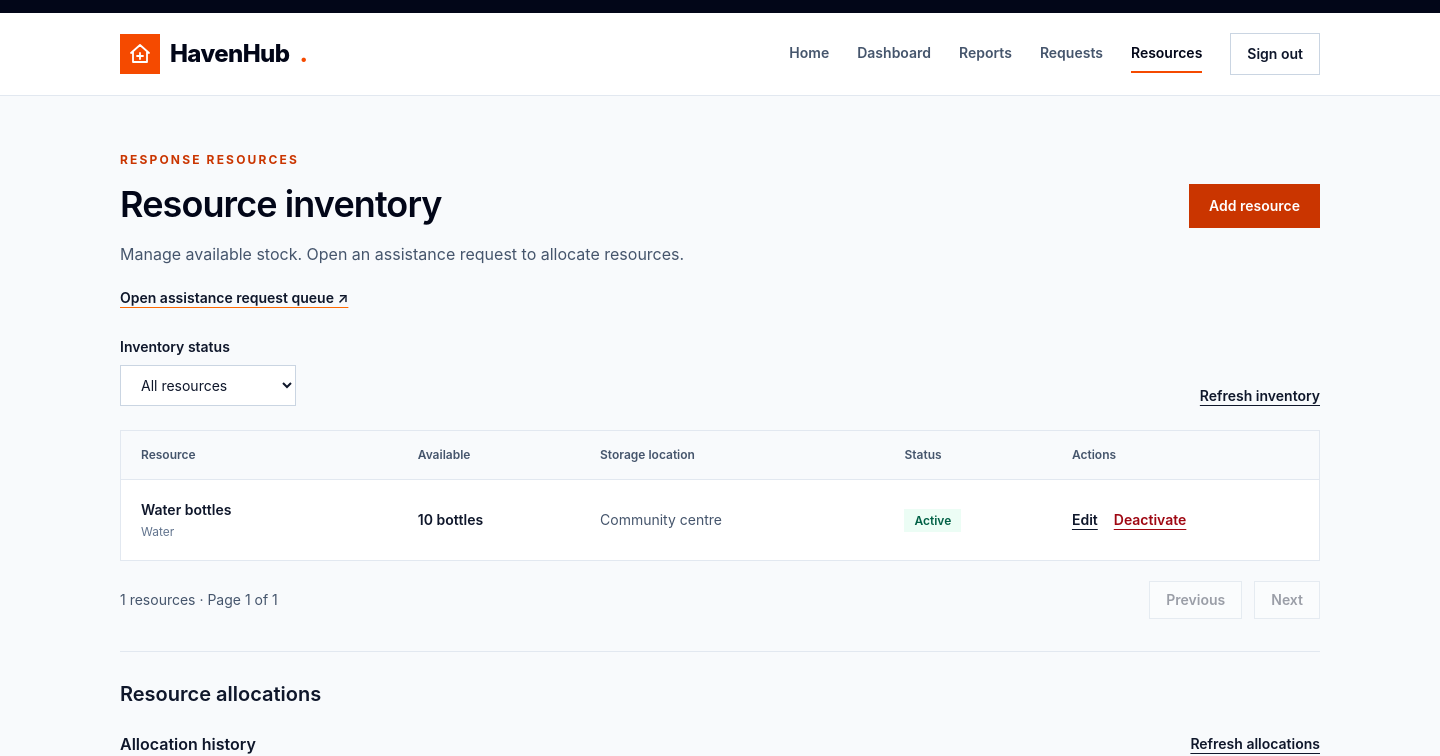
Scenario: edit submits the stock version and preserves form data after a validation failure
Click the button with aria-label "Edit Water bottles".
click(1085, 520)  # box [1072, 510, 1098, 530]
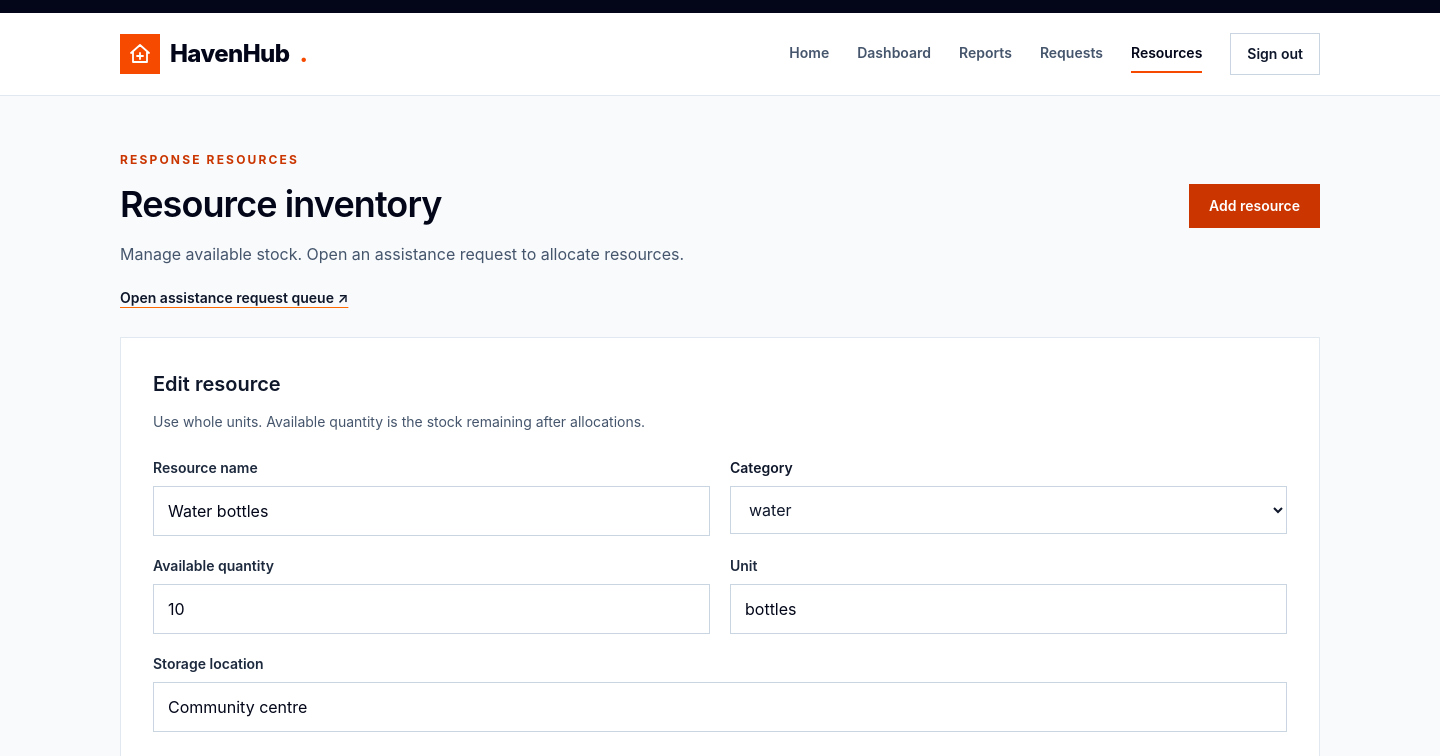
Replace the text in the number field labelled "Available quantity" with "6" at (432, 608), box [153, 584, 710, 634]
(page scrolled)
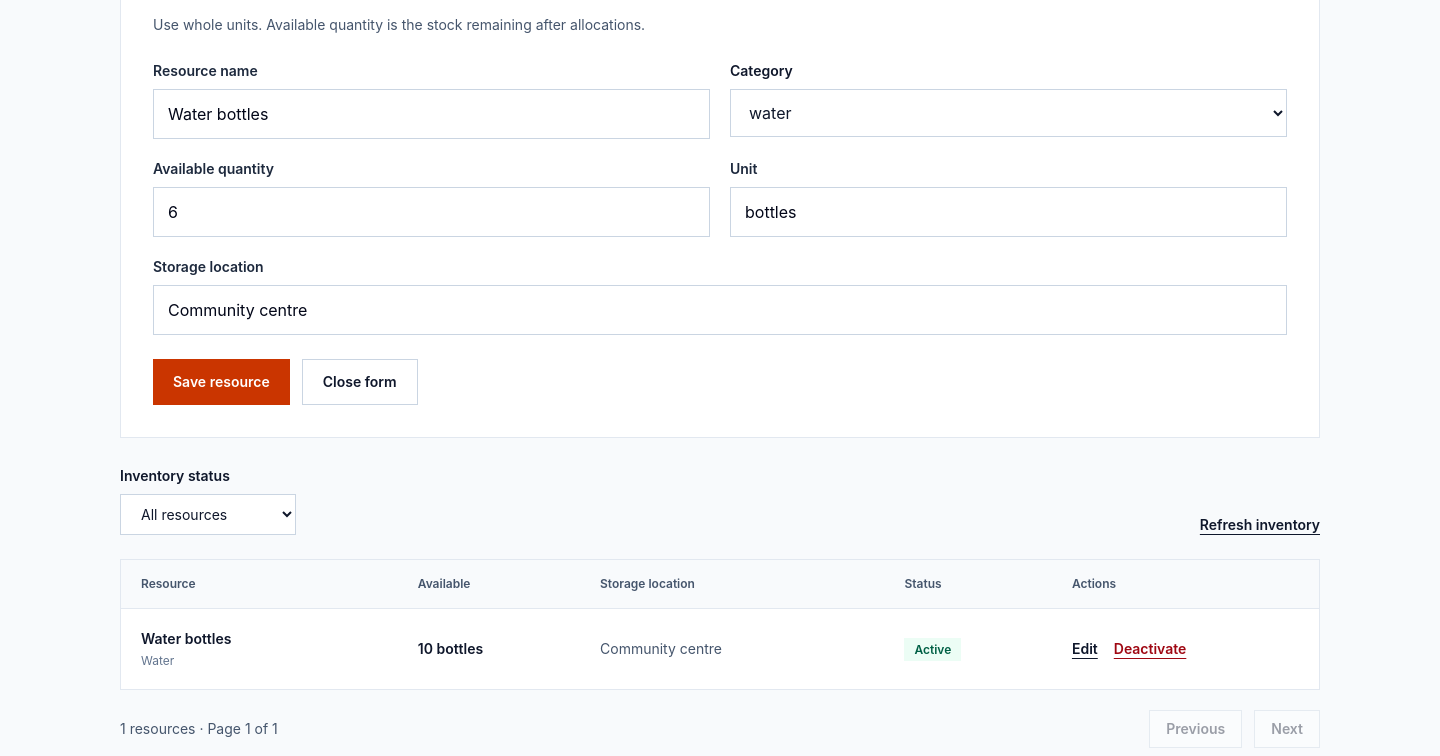
Click the button "Save resource".
click(221, 382)  # box [153, 358, 290, 404]
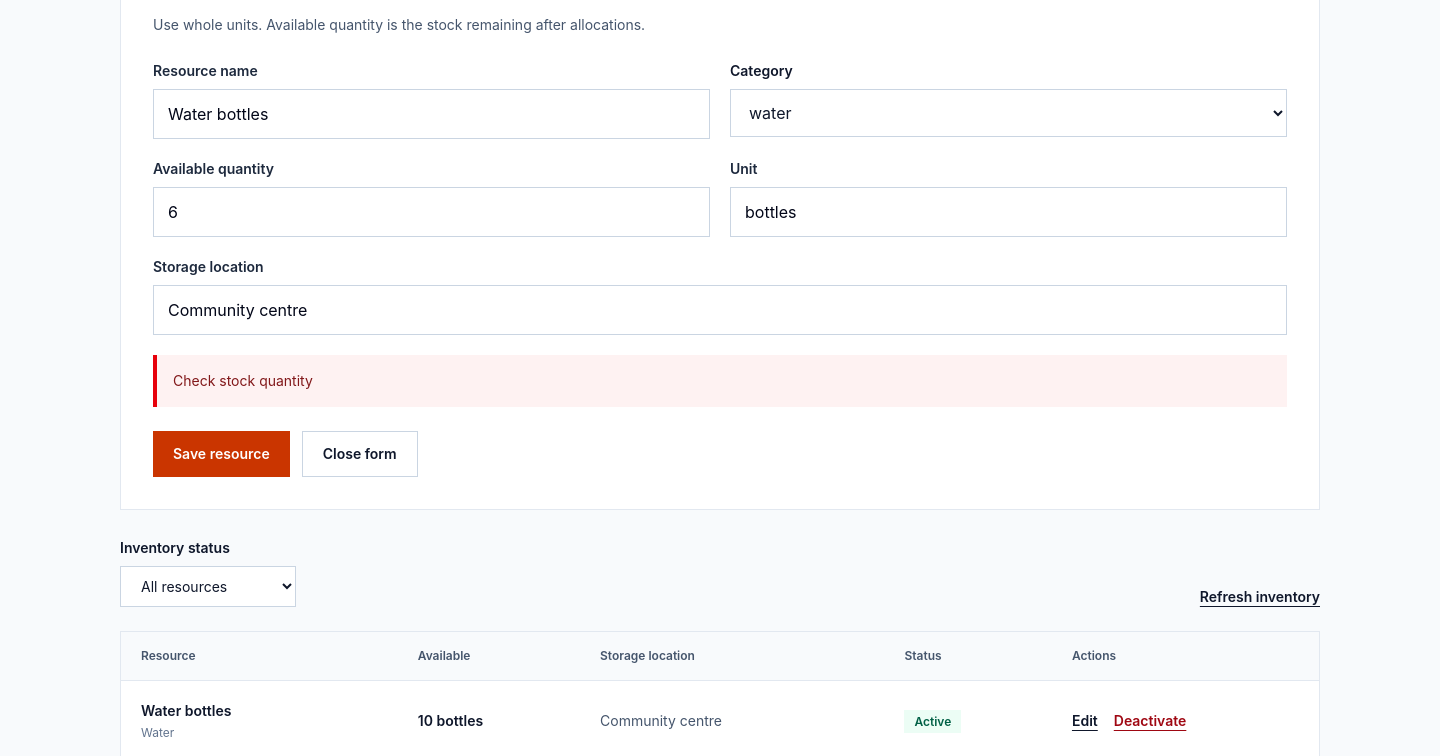
expect the message reads "Check stock quantity": met, box [173, 372, 313, 388]
